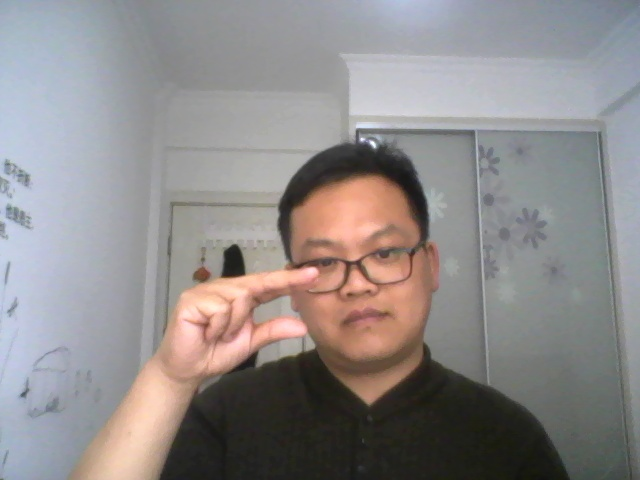No: (147, 265, 323, 380)
